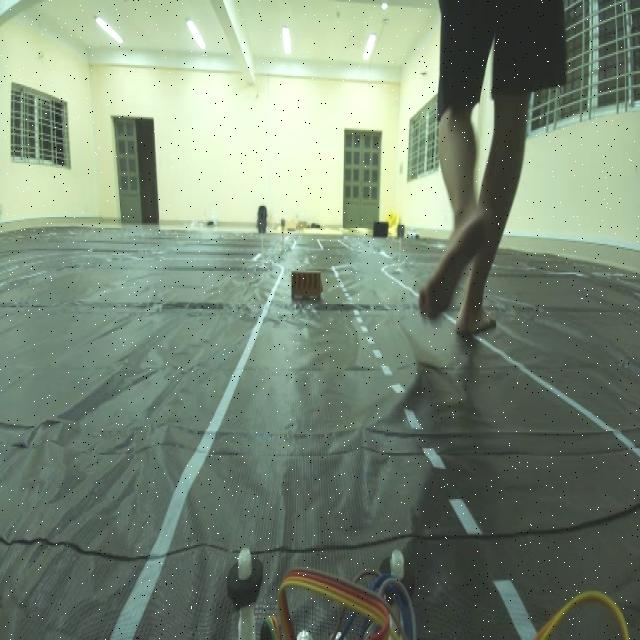roadblock: (288, 262, 326, 315)
